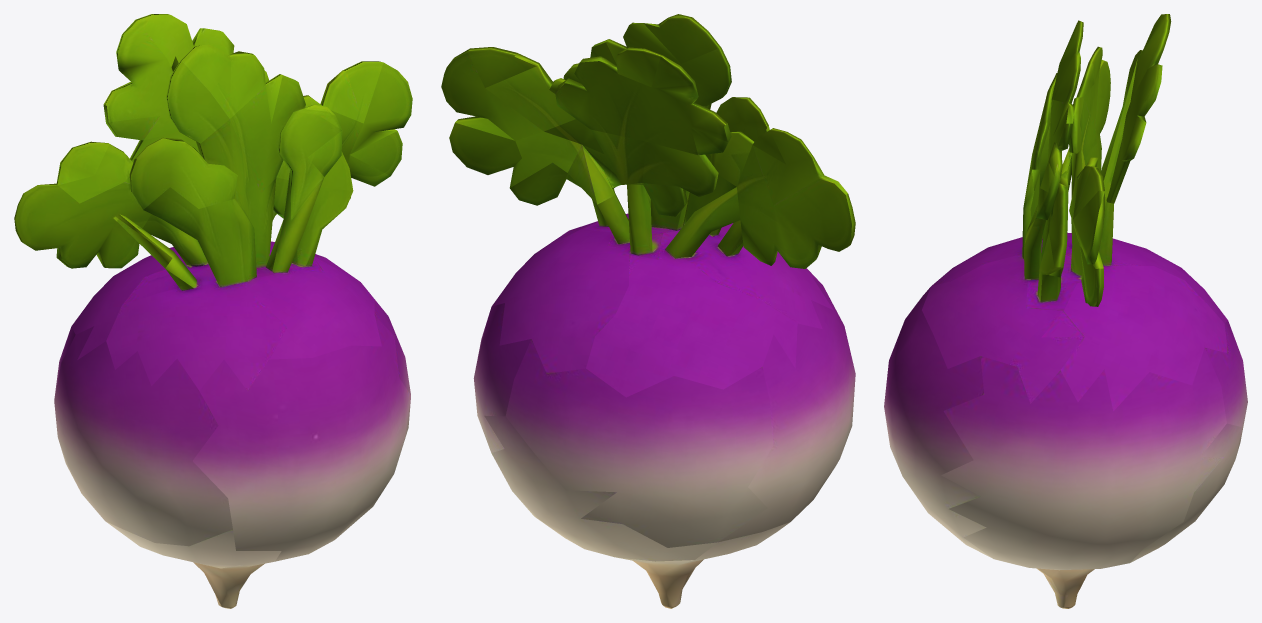
File: turnip.glb
3 renders of one model, left to right at view 1: azimuth 30°, elevation 25°; view 2: azimuth 150°, elevation 25°; view 3: azimuth 270°, elevation 25°, orthographic. The views are drawn at different scales.
Size of the model in its own units: 0.7266 by 1 by 0.5742.
Materials: 1 (1 with a texture image).
